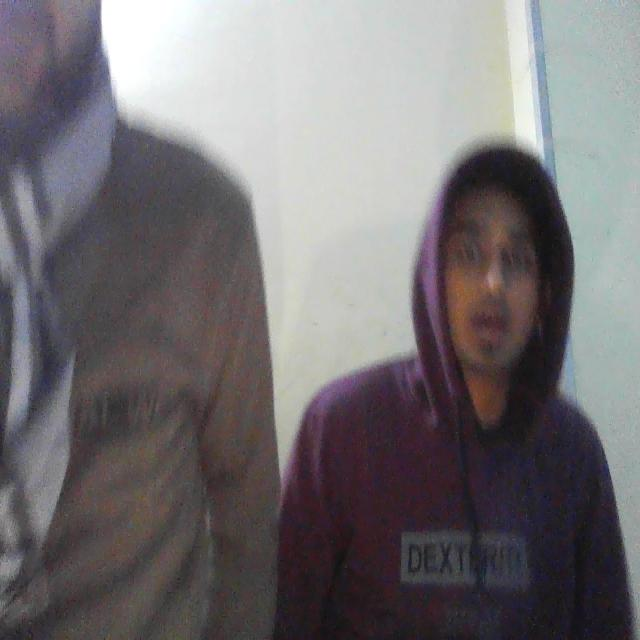real: (430, 153, 553, 387)
